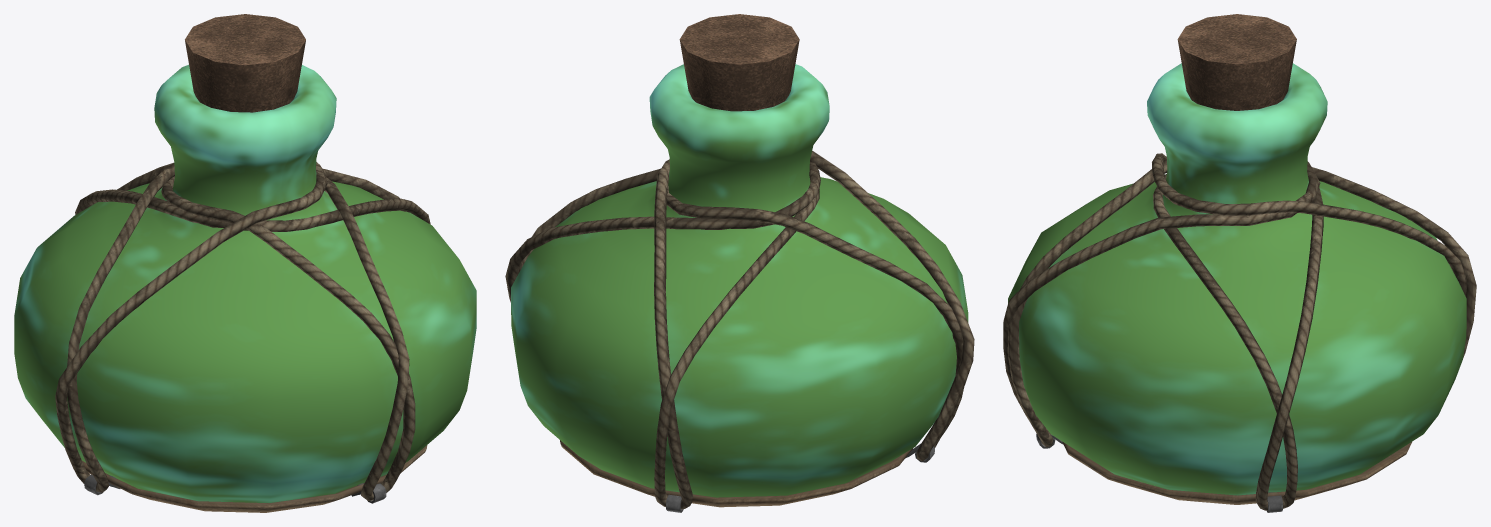
Rendered from a_slightly_different_magic_fire_potion.glb.
3 views of the same model, side by side, from view 1: azimuth 30°, elevation 25°; view 2: azimuth 150°, elevation 25°; view 3: azimuth 270°, elevation 25° (orthographic).
Parts seen in each view (by area): view 1: Flask_mesh, rope, Corc, Flask_holder; view 2: Flask_mesh, rope, Corc, Flask_holder; view 3: Flask_mesh, rope, Corc, Flask_holder.
Boxes of the visible parts, x1=… form: Flask_mesh: x1=14, y1=64, x2=476, y2=502; rope: x1=55, y1=162, x2=430, y2=500; Corc: x1=185, y1=14, x2=305, y2=112; Flask_holder: x1=82, y1=445, x2=427, y2=512; Flask_mesh: x1=511, y1=64, x2=968, y2=497; rope: x1=505, y1=151, x2=974, y2=509; Corc: x1=679, y1=14, x2=799, y2=111; Flask_holder: x1=560, y1=440, x2=934, y2=512; Flask_mesh: x1=1008, y1=63, x2=1466, y2=495; rope: x1=1003, y1=153, x2=1476, y2=510; Corc: x1=1177, y1=14, x2=1296, y2=110; Flask_holder: x1=1036, y1=433, x2=1411, y2=512.
Bounding box in the file's own units: 0.8058 × 0.7588 × 0.7944.
3 materials, 3 textured.
